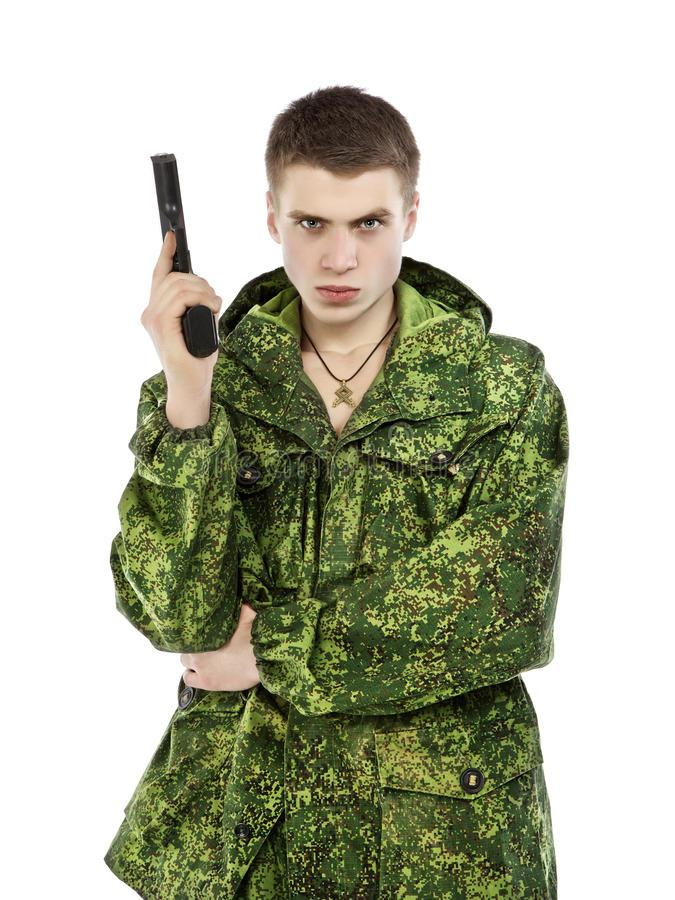criminal: (97, 80, 572, 900)
weapon: (138, 146, 222, 361)
